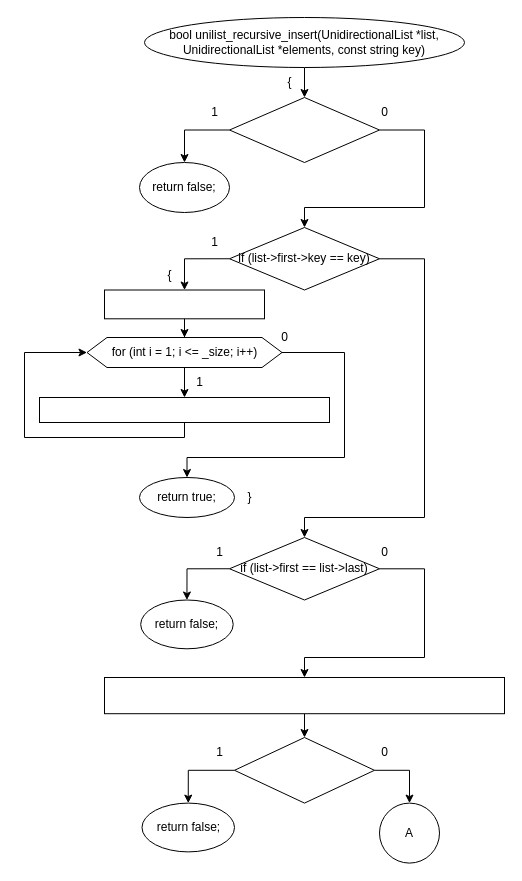
The diagram is 522 pixels wide and 881 high, and some of its shapes have lost their labels. The shapes that lost their labels are listed below. From the top down, each one's centre as x and y in pixels, then its label:
(x=304, y=129): if (list->first == nullptr)
(x=184, y=304): int _size = elements->size;
(x=184, y=409): unilist_add_before(list, unilist_pop_last(elements));
(x=304, y=695): UnidirectionalElement *temp = _unilist_recursive_search(list->first, key);
(x=304, y=769): if (temp == nullptr)
